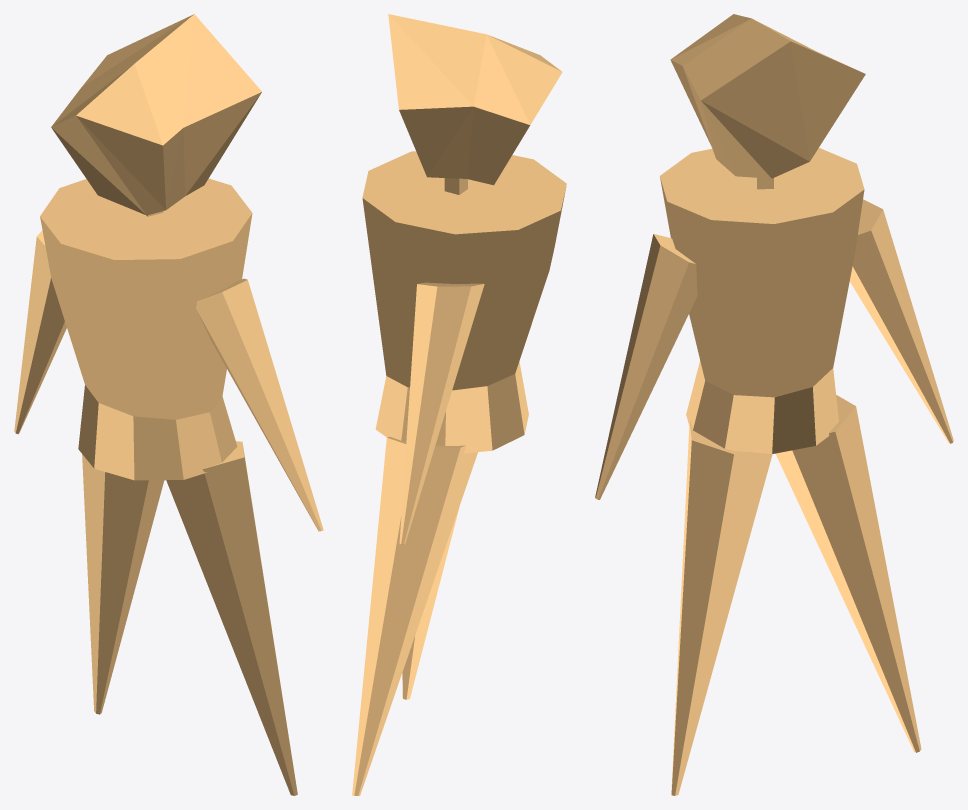
The model's file is scene_exq2AD3qyT.glb.
3 renders of one model, left to right at view 1: azimuth 30°, elevation 25°; view 2: azimuth 150°, elevation 25°; view 3: azimuth 270°, elevation 25°, orthographic.
Visible parts, largest first — view 1: Node; view 2: Node; view 3: Node.
Part boxes in pixels (<box>): Node: <box>14,14,323,795</box>; Node: <box>352,14,566,795</box>; Node: <box>595,14,953,795</box>.
Size of the model in its own units: 0.3961 by 1.42 by 0.6312.
